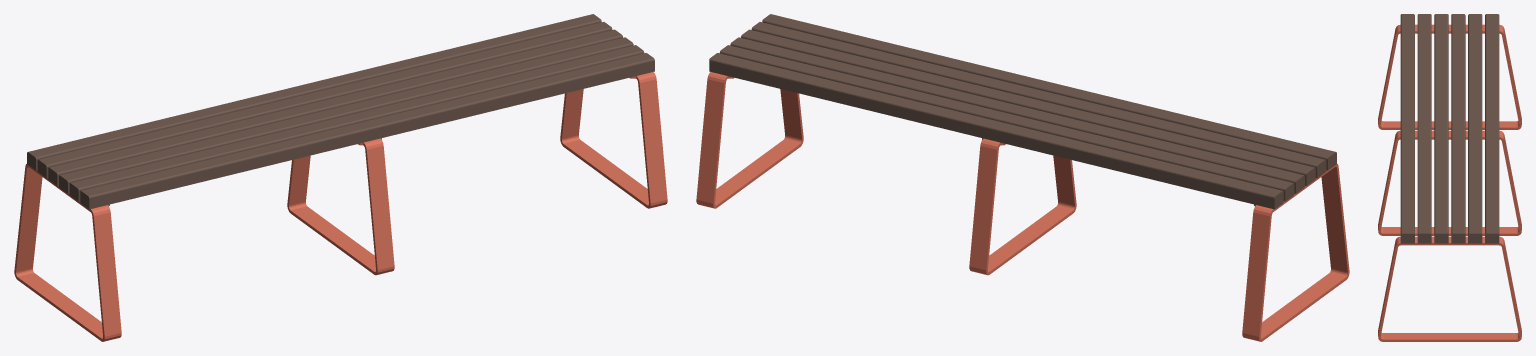
Rendered from byside-bench-plaza.glb.
3 views of the same model, side by side, from view 1: azimuth 30°, elevation 25°; view 2: azimuth 150°, elevation 25°; view 3: azimuth 270°, elevation 25° (orthographic). The views are drawn at different scales.
Parts seen in each view (by area): view 1: mesh_1, mesh_0; view 2: mesh_1, mesh_0; view 3: mesh_1, mesh_0.
Boxes of the visible parts, x1,y1,x2,y2 form: mesh_1: (27, 14, 654, 209); mesh_0: (14, 72, 667, 341); mesh_1: (709, 14, 1336, 209); mesh_0: (696, 72, 1349, 341); mesh_1: (1400, 14, 1499, 243); mesh_0: (1378, 24, 1521, 341).
Bounding box in the file's own units: 2 × 0.463 × 0.5532.
